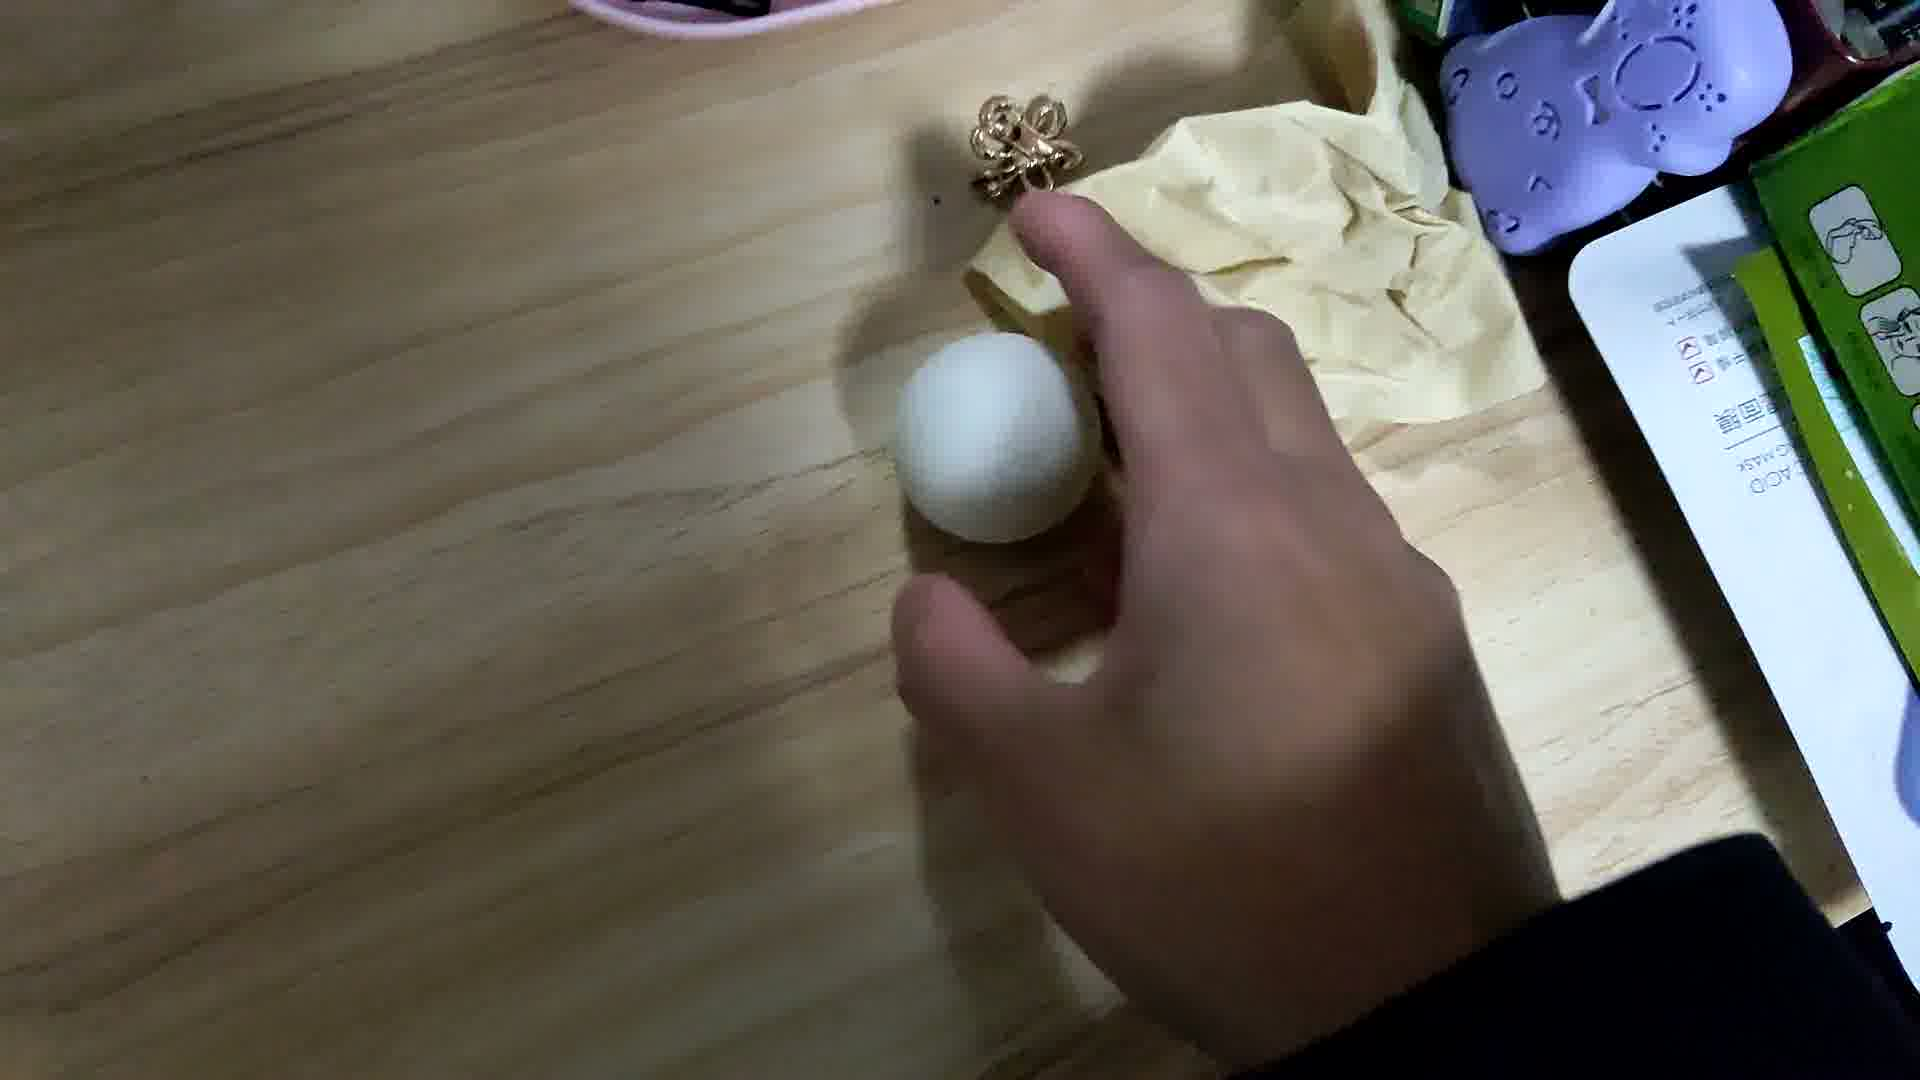Ball: (899, 327, 1096, 537)
